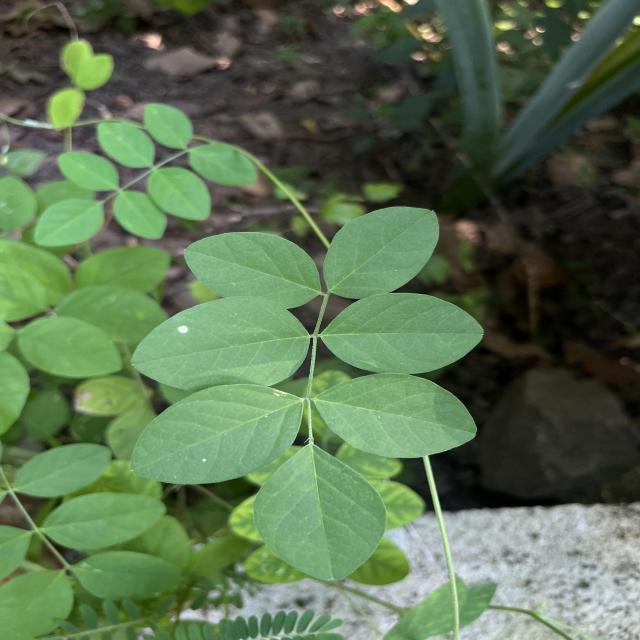Clitoria ternatea: (252, 442, 389, 584), (128, 383, 306, 486), (130, 295, 312, 393), (312, 371, 480, 459), (320, 291, 487, 374), (322, 204, 440, 300), (182, 230, 323, 310)
